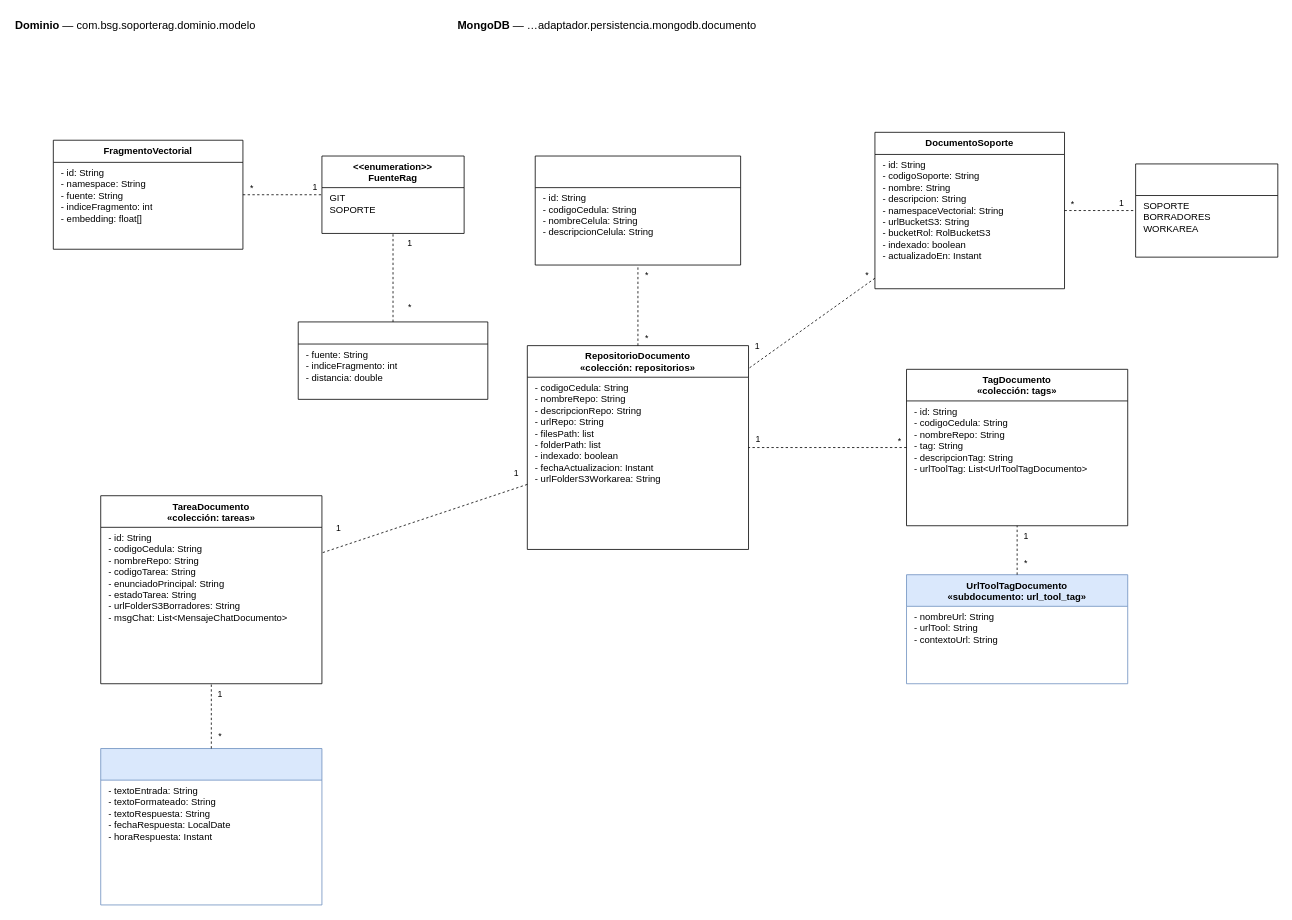
Some shapes in this 1292 by 920 pixel diagram are drawn without their labels. Each missing label, with the box of its shape:
<<enumeration>> RolBucketS3: (1135, 163, 1278, 257)
CelulaDocumento «colección: celulas»: (534, 155, 741, 265)
CoincidenciaVectorial: (297, 321, 488, 399)
MensajeChatDocumento «subdocumento: msg_chat»: (100, 748, 322, 905)
